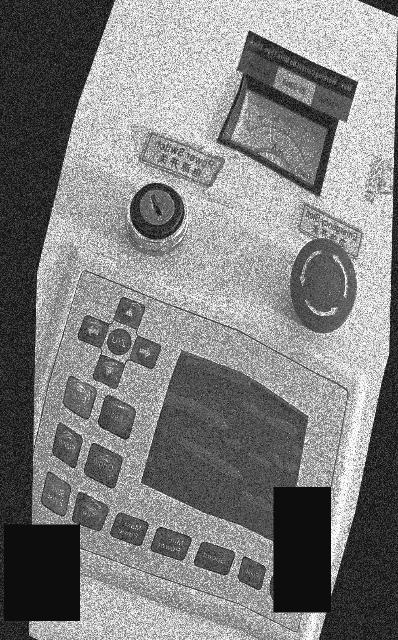Amp_Meter: (229, 89, 327, 184)
Display: (225, 459, 228, 464)
Down_button: (104, 368, 106, 375)
Emergency_Stop: (327, 295, 332, 300)
Enter_button: (69, 393, 75, 401)
Esc_button: (98, 395, 135, 439)
File_button: (72, 492, 108, 531)
Frame_button: (53, 423, 82, 467)
Left_button: (130, 336, 161, 368)
Max-Power_button: (111, 513, 148, 545)
Min-Power_button: (151, 528, 191, 560)
Origin_button: (85, 443, 122, 488)
Power_switch: (130, 183, 185, 251)
Pulse_button: (238, 557, 265, 590)
Reset_button: (270, 576, 274, 597)
Right_button: (78, 315, 108, 348)
Speed_button: (194, 542, 235, 575)
Start-Pause_button: (41, 473, 70, 516)
Up_button: (114, 297, 145, 329)
Z_U_button: (107, 329, 131, 355)
